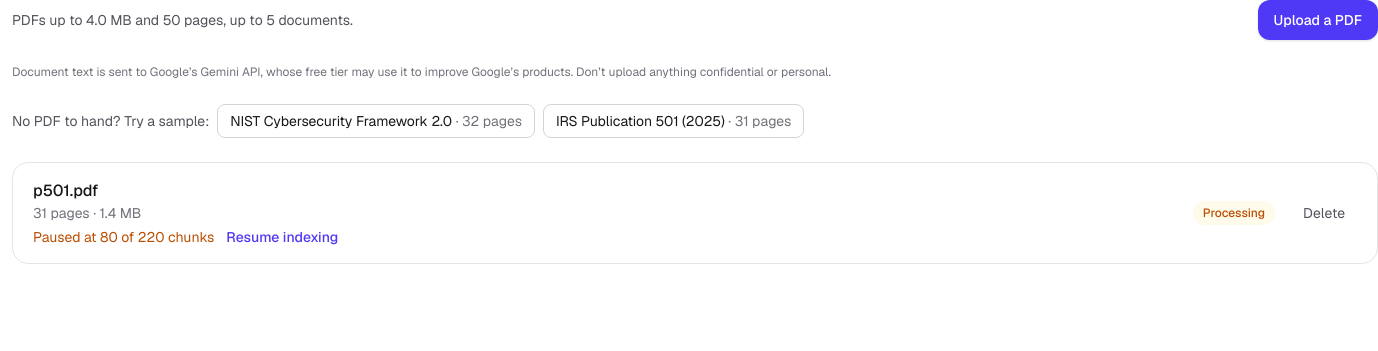
DocumentLibrary — indexing large documents › stops and explains, instead of counting down for hours, when the daily quota is used up
Click the button "Resume indexing" at [282, 237], box [226,227,338,247]
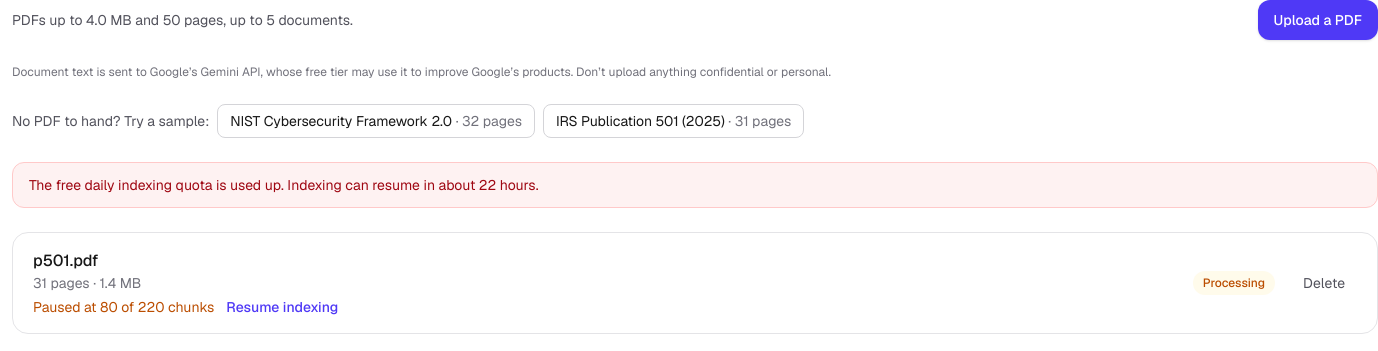
Expected: the text "Paused at 80 of 220 chunks" is shown, [33,297,214,317]
Expected: the message reads "The free daily indexing quota is used up. Indexing can resume in about 22 hours.", [29,176,538,194]
